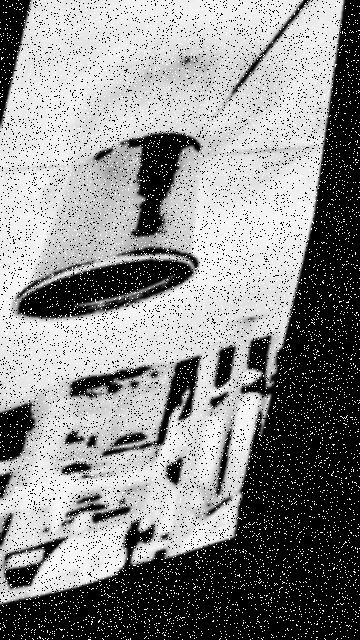pot: (10, 132, 200, 320)
